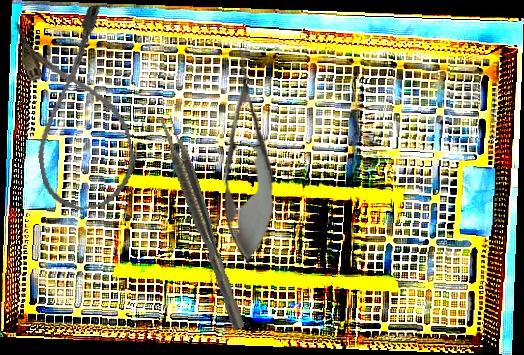Cannula: (11, 3, 143, 217)
Micro Scissor: (215, 46, 278, 266)
Tissue Forceps: (157, 113, 246, 333)
